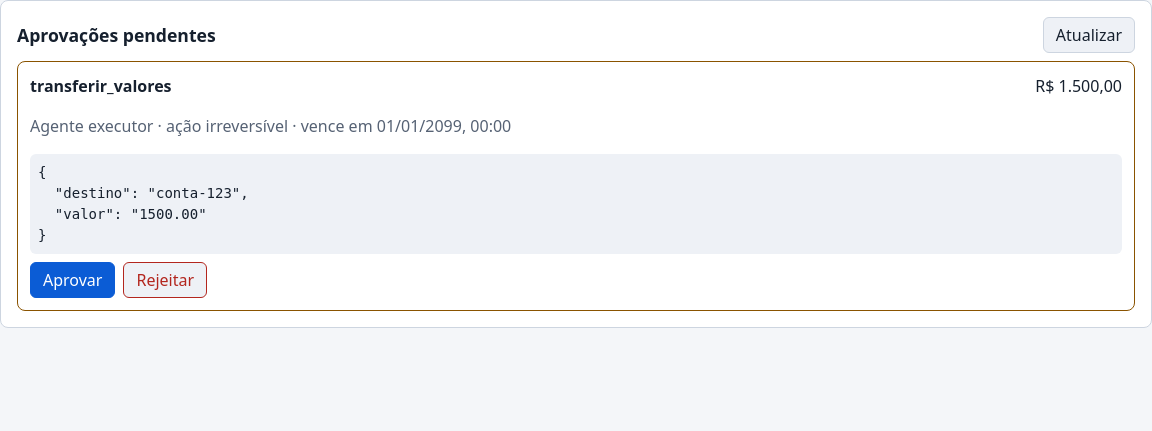
Test: InboxPanel › 409 explica que já foi decidida/venceu e recarrega a lista
Check: the list item is shown, box left=17, top=61, right=1135, bottom=311
Click the button "Aprovar".
click(73, 280)  # box left=30, top=262, right=115, bottom=298
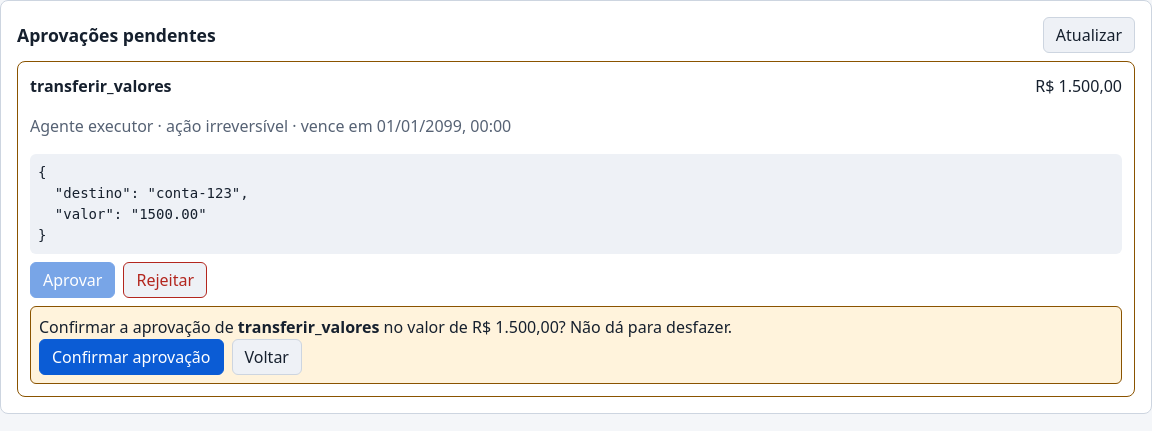
Click the button "Confirmar aprovação".
click(131, 357)  # box left=39, top=339, right=224, bottom=375
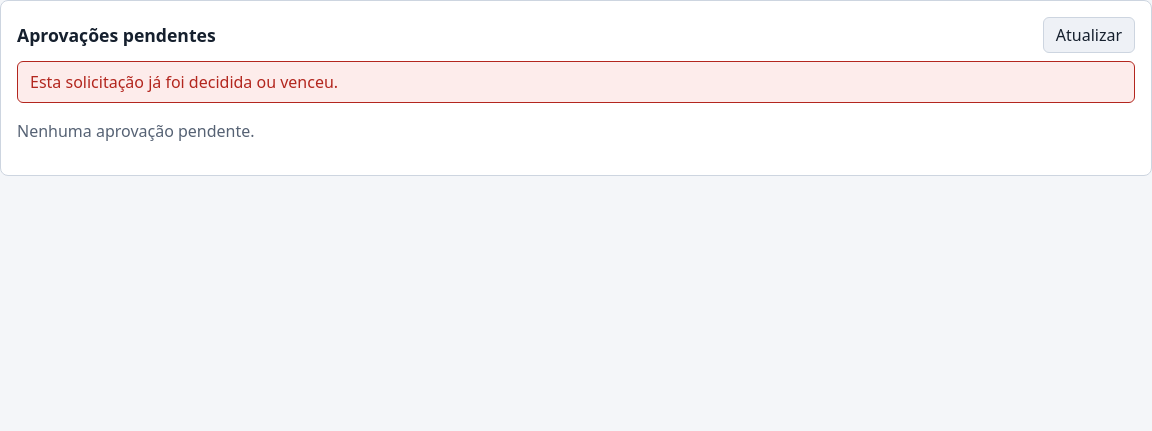
Check: the text "Esta solicitação já foi decidida ou venceu." is shown, box left=17, top=61, right=1135, bottom=103
Check: the list item is gone
